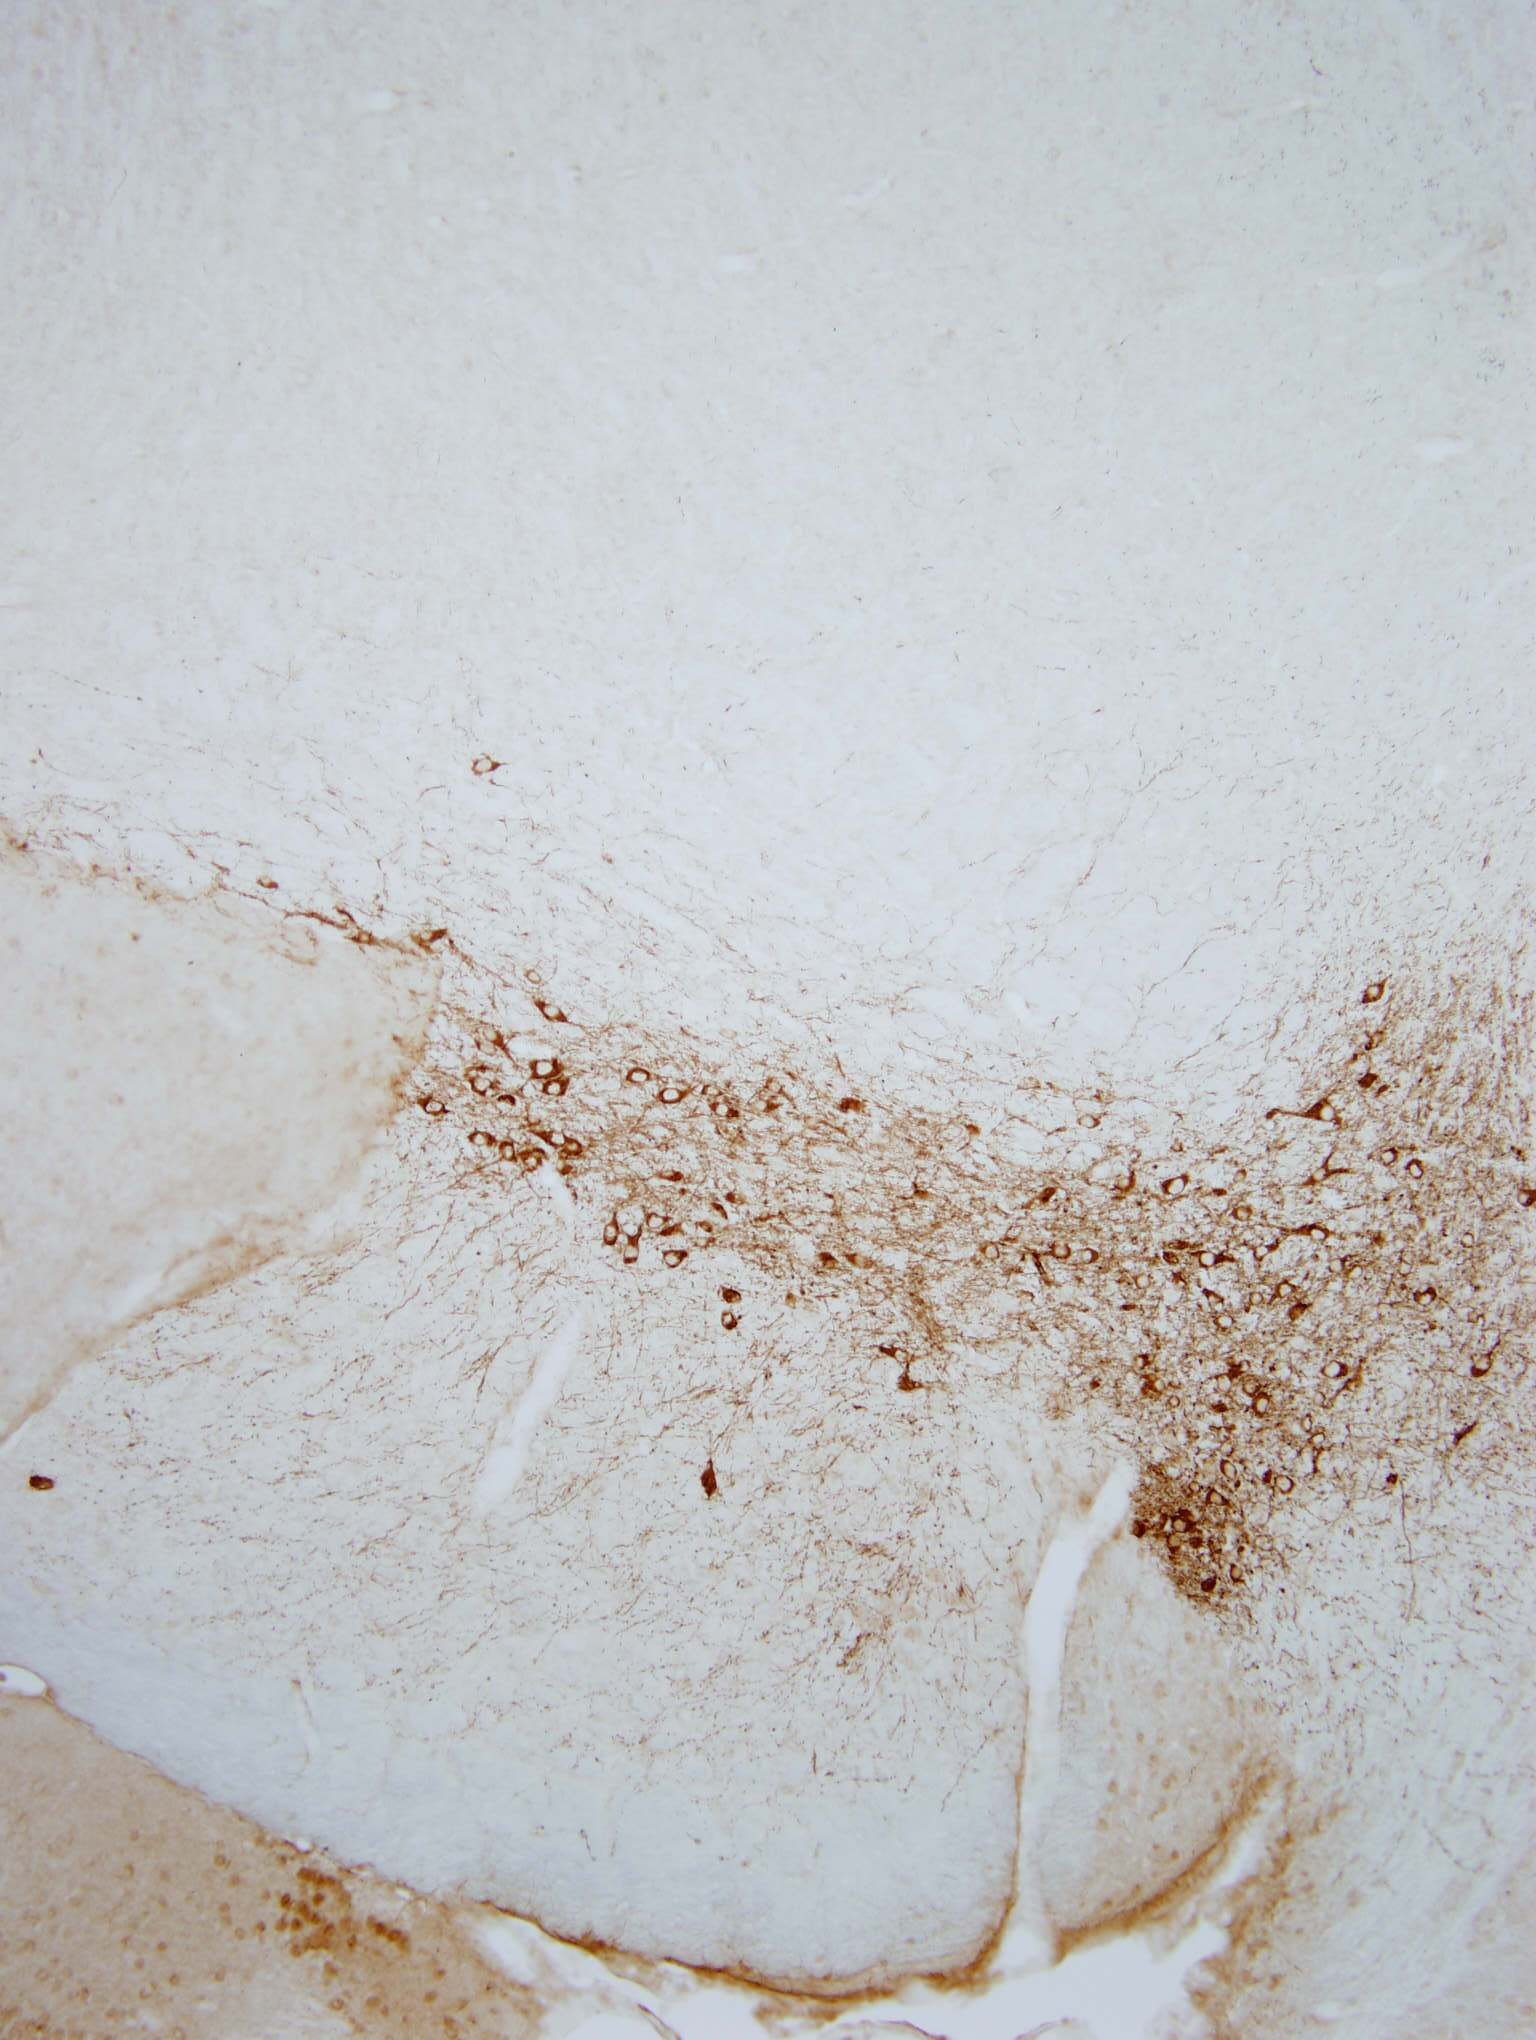neuron: (1299, 1148, 1347, 1197), (470, 747, 507, 784), (653, 1076, 691, 1113), (842, 1239, 879, 1276), (1212, 1453, 1249, 1488), (1270, 1468, 1305, 1505), (1409, 1280, 1446, 1316), (1468, 1345, 1505, 1380), (465, 1122, 500, 1159), (529, 1047, 565, 1084), (591, 1214, 628, 1250), (620, 1060, 657, 1095), (749, 1092, 786, 1127), (1073, 1105, 1108, 1140), (1112, 1166, 1147, 1201), (1160, 1169, 1196, 1205), (1194, 1242, 1229, 1277), (1204, 1484, 1239, 1519), (1247, 1388, 1283, 1424), (1310, 1093, 1346, 1129), (1318, 1350, 1354, 1385), (1362, 974, 1397, 1010), (418, 918, 453, 953), (419, 1090, 455, 1126), (482, 1019, 518, 1055), (536, 995, 571, 1030), (537, 1116, 573, 1151), (541, 1071, 576, 1106), (642, 1203, 678, 1239), (658, 1240, 694, 1276), (705, 1095, 741, 1130), (886, 1337, 921, 1372), (1052, 1240, 1076, 1264), (1079, 1243, 1104, 1268), (1131, 1353, 1155, 1377), (1167, 1532, 1191, 1556), (1171, 1514, 1196, 1538), (1184, 1479, 1208, 1503), (1213, 1374, 1238, 1398), (1215, 1311, 1239, 1335), (1226, 1564, 1250, 1588), (1234, 1200, 1258, 1224), (1242, 1372, 1267, 1397), (1249, 1284, 1273, 1308), (1254, 1239, 1278, 1263), (1276, 1279, 1300, 1303), (1309, 1222, 1333, 1247), (1349, 1261, 1373, 1285), (1379, 1143, 1404, 1168), (1405, 1156, 1430, 1180), (1460, 1230, 1484, 1255), (353, 927, 378, 951), (497, 1139, 521, 1163), (523, 1151, 547, 1176), (563, 1135, 587, 1159), (660, 1161, 684, 1185), (700, 1079, 724, 1103), (981, 1240, 1005, 1264), (1149, 1372, 1171, 1397), (1163, 1392, 1187, 1414), (1326, 1255, 1350, 1277), (473, 1074, 495, 1098), (623, 1219, 645, 1243), (623, 1242, 645, 1266), (765, 1076, 789, 1098), (1133, 1271, 1155, 1293)
